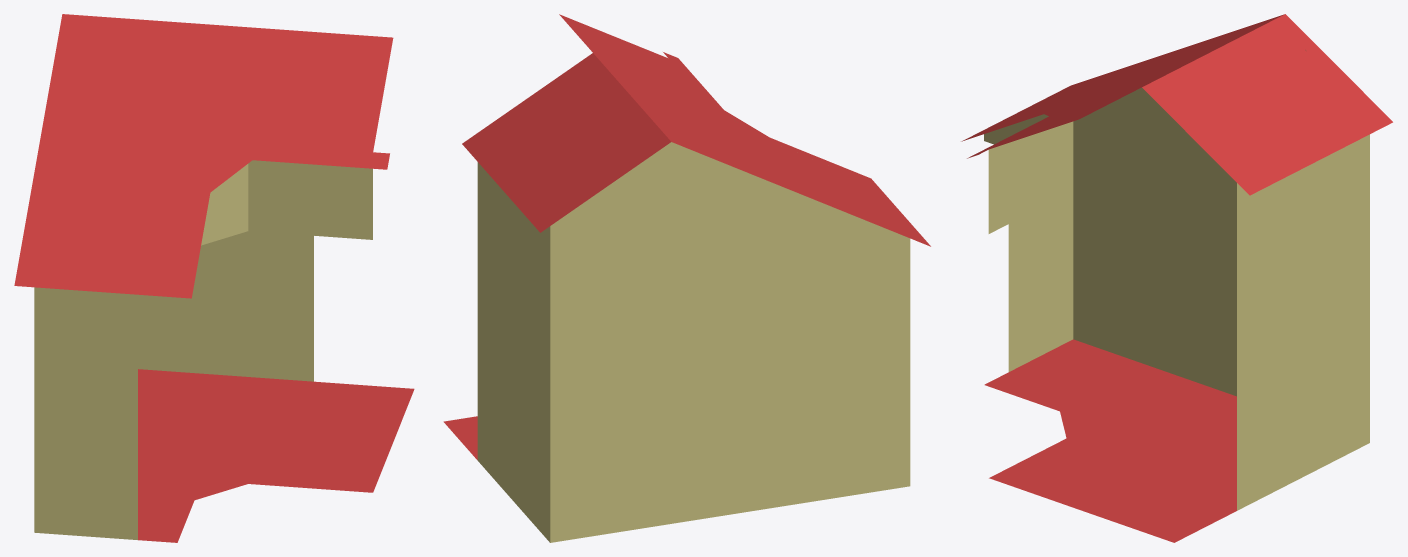
3 views of the same model, side by side, from view 1: azimuth 30°, elevation 25°; view 2: azimuth 150°, elevation 25°; view 3: azimuth 270°, elevation 25° (orthographic). The views are drawn at different scales.
Size of the model in its own units: 15.12 by 12.95 by 12.88.
